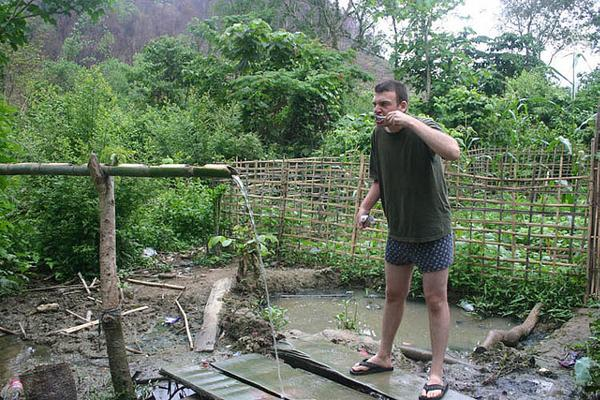person: (350, 81, 458, 400)
